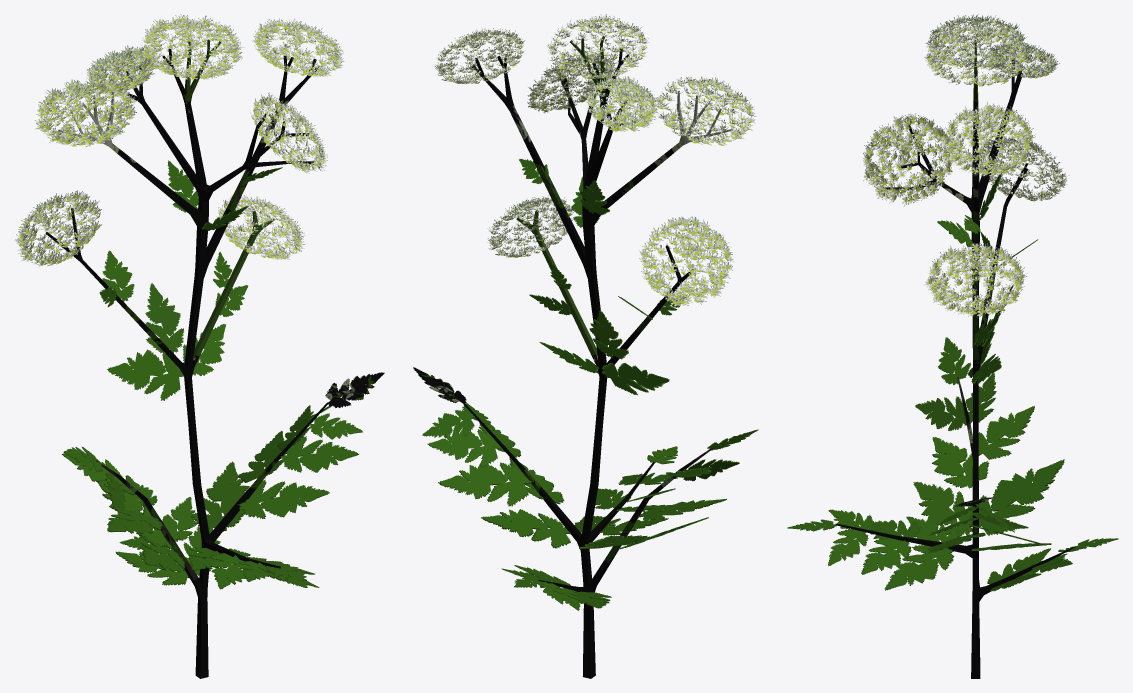
The model's file is hemlock.fbx.
3 views of the same model, side by side, from view 1: azimuth 30°, elevation 25°; view 2: azimuth 150°, elevation 25°; view 3: azimuth 270°, elevation 25° (orthographic). The views are drawn at different scales.
Parts seen in each view (by area): view 1: Plane.223, Cube; view 2: Plane.223, Cube; view 3: Plane.223, Cube.
Boxes of the visible parts, x1,y1,x2,y2 form: Plane.223: (14, 14, 384, 589); Cube: (46, 38, 327, 678); Plane.223: (413, 14, 758, 610); Cube: (463, 36, 732, 678); Plane.223: (787, 14, 1118, 591); Cube: (835, 36, 1075, 678).
Size of the model in its own units: 249 by 460 by 216.
